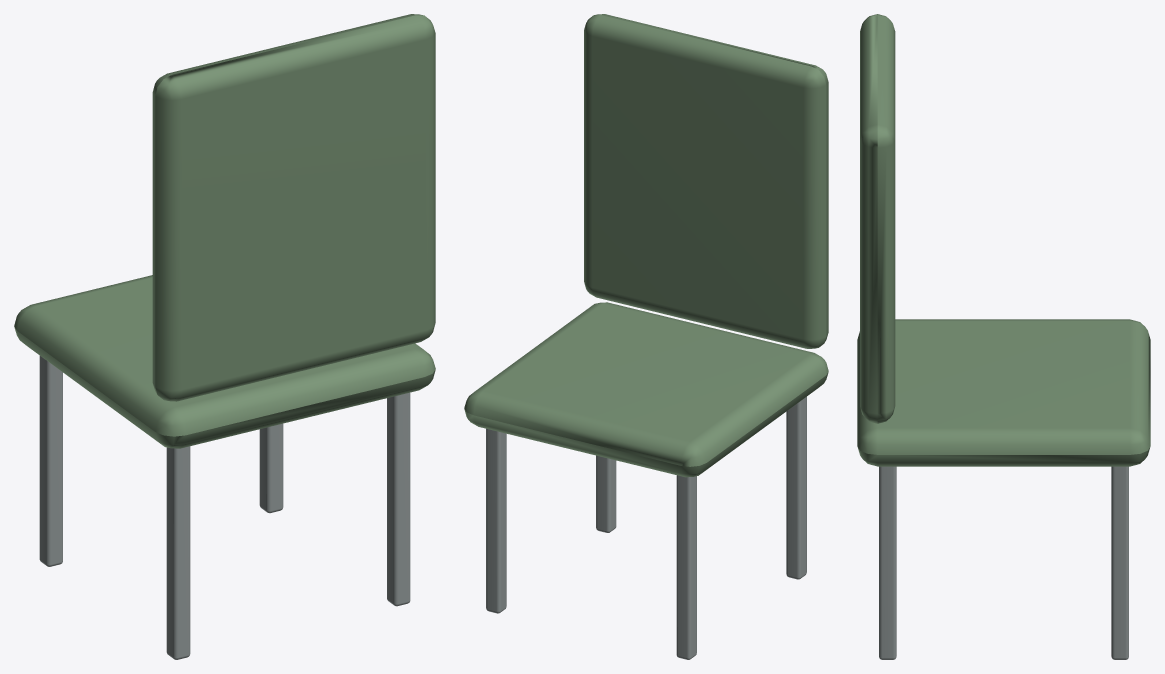
Rendered from SM_EG_StaffChair_4136c31f6f.fbx.
The picture shows the model from 3 angles, left to right: view 1: azimuth 30°, elevation 25°; view 2: azimuth 150°, elevation 25°; view 3: azimuth 270°, elevation 25°; orthographic projection. The views are drawn at different scales.
Visible parts, largest first — view 1: SM_EG_StaffChair_4136c31f6f; view 2: SM_EG_StaffChair_4136c31f6f; view 3: SM_EG_StaffChair_4136c31f6f.
Boxes of the visible parts, x1,y1,x2,y2 form: SM_EG_StaffChair_4136c31f6f: [14, 14, 435, 659]; SM_EG_StaffChair_4136c31f6f: [464, 14, 828, 659]; SM_EG_StaffChair_4136c31f6f: [857, 14, 1150, 659].
Size of what is drawn, in the model's own units: 58 by 58 by 117.
